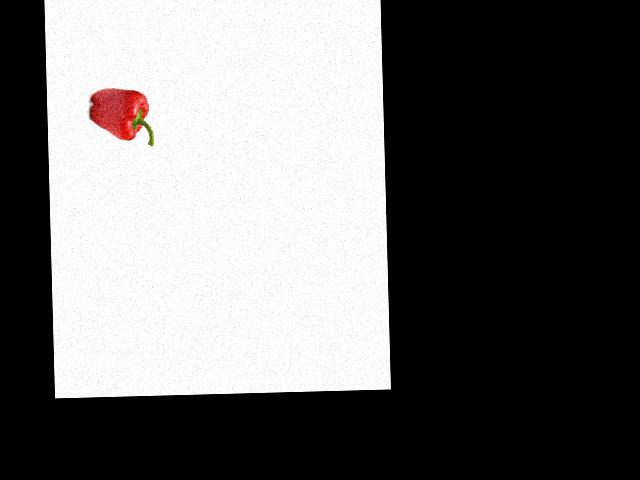bell_pepper: (84, 84, 158, 149)
